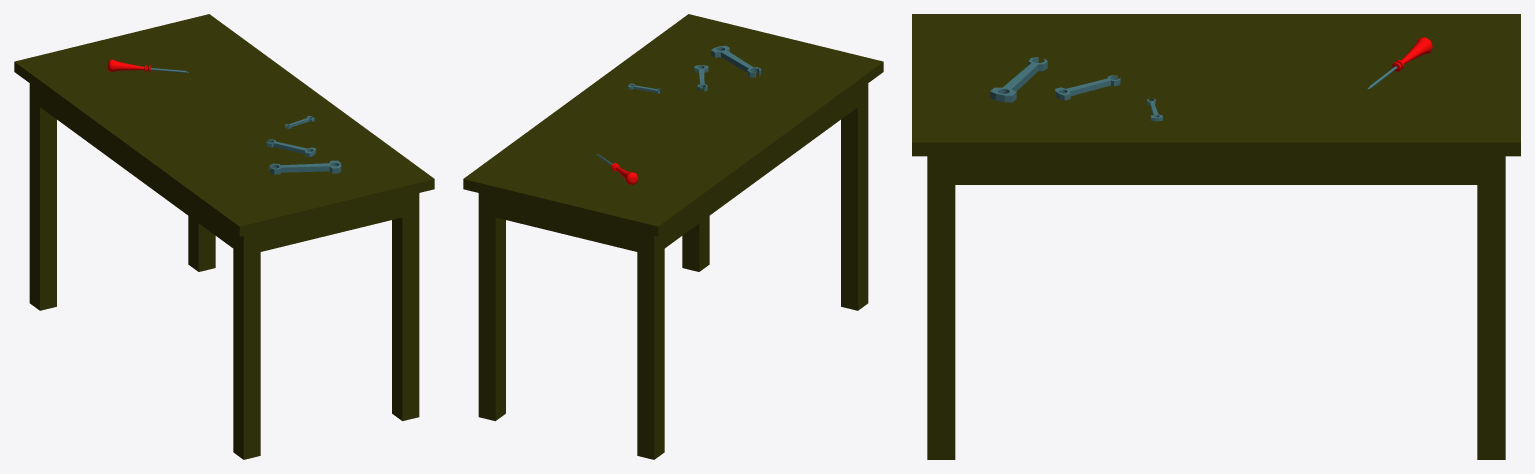
Rendered from mesagarage 1.FBX.
3 views of the same model, side by side, from view 1: azimuth 30°, elevation 25°; view 2: azimuth 150°, elevation 25°; view 3: azimuth 270°, elevation 25° (orthographic). The views are drawn at different scales.
Parts seen in each view (by area): view 1: Box001, Box002, Box005, Box006, Box003, Box004, Box007; view 2: Box001, Box002, Box003, Box004, Box005, Box006, Box007; view 3: Box001, Box002, Box004, Box006, Box007, Box008.
Part boxes in pixels (box(x1,y1,x2,y2)): Box001: box(14, 14, 434, 236); Box002: box(29, 83, 419, 255); Box005: box(233, 249, 260, 459); Box006: box(392, 213, 419, 421); Box003: box(29, 100, 56, 310); Box004: box(188, 216, 215, 271); Box007: box(269, 160, 341, 174); Box001: box(463, 14, 883, 236); Box002: box(478, 83, 868, 255); Box003: box(637, 249, 664, 459); Box004: box(478, 213, 505, 421); Box005: box(841, 100, 868, 310); Box006: box(682, 216, 709, 271); Box007: box(711, 45, 761, 77); Box001: box(912, 14, 1520, 156); Box002: box(927, 156, 1505, 184); Box004: box(1477, 185, 1505, 459); Box006: box(927, 185, 955, 459); Box007: box(990, 57, 1047, 102); Box008: box(1055, 75, 1120, 100).
Bounding box in the file's own units: 400 × 495 × 800.
